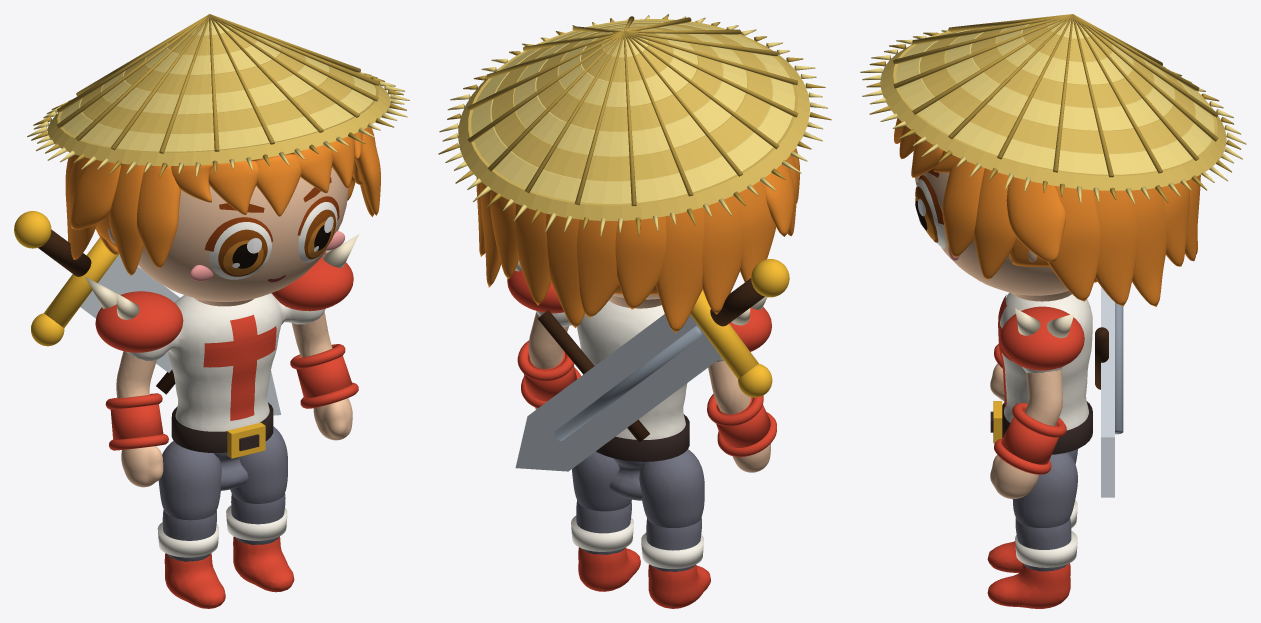
File: iop3.glb
The picture shows the model from 3 angles, left to right: view 1: azimuth 30°, elevation 25°; view 2: azimuth 150°, elevation 25°; view 3: azimuth 270°, elevation 25°; orthographic projection. The views are drawn at different scales.
Parts seen in each view (by area): view 1: meches, crane, tunique, cone, cone_bord, cone.001, cone.002, jambe, epauliere, cone.003, epauliere.001, jambe.001 (+46 smaller); view 2: meches, lame, cone, cone.001, cone_bord, cone.002, cone.003, tunique, jambe, cone.004, jambe.001, gorge (+37 smaller); view 3: meches, cone, cone.001, cone_bord, cone.002, tunique, cone.003, epauliere.001, jambe.001, crane, cone.004, botte.001 (+27 smaller).
Boxes of the visible parts, x1=… form: meches: x1=65, y1=127, x2=380, y2=275; crane: x1=138, y1=167, x2=348, y2=301; tunique: x1=126, y1=293, x2=325, y2=431; cone: x1=60, y1=70, x2=375, y2=151; cone_bord: x1=47, y1=72, x2=390, y2=165; cone.001: x1=80, y1=66, x2=353, y2=133; cone.002: x1=102, y1=55, x2=329, y2=114; jambe: x1=158, y1=441, x2=221, y2=520; epauliere: x1=95, y1=291, x2=183, y2=352; cone.003: x1=123, y1=45, x2=305, y2=94; epauliere.001: x1=271, y1=252, x2=353, y2=311; jambe.001: x1=230, y1=426, x2=287, y2=503; meches: x1=476, y1=148, x2=799, y2=333; lame: x1=515, y1=314, x2=721, y2=471; cone: x1=471, y1=21, x2=794, y2=203; cone.001: x1=491, y1=22, x2=772, y2=181; cone_bord: x1=458, y1=19, x2=809, y2=220; cone.002: x1=514, y1=24, x2=747, y2=156; cone.003: x1=536, y1=26, x2=722, y2=131; tunique: x1=536, y1=300, x2=723, y2=439; jambe: x1=639, y1=449, x2=704, y2=527; cone.004: x1=558, y1=28, x2=697, y2=106; jambe.001: x1=572, y1=451, x2=631, y2=511; gorge: x1=554, y1=325, x2=703, y2=440; meches: x1=894, y1=118, x2=1200, y2=306; cone: x1=896, y1=29, x2=1214, y2=174; cone.001: x1=919, y1=26, x2=1195, y2=153; cone_bord: x1=880, y1=31, x2=1226, y2=190; cone.002: x1=945, y1=25, x2=1174, y2=130; tunique: x1=1000, y1=292, x2=1092, y2=430; cone.003: x1=971, y1=28, x2=1154, y2=107; epauliere.001: x1=1000, y1=306, x2=1084, y2=370; jambe.001: x1=1012, y1=452, x2=1077, y2=527; crane: x1=917, y1=172, x2=1068, y2=295; cone.004: x1=996, y1=24, x2=1133, y2=84; botte.001: x1=987, y1=563, x2=1070, y2=608.
Size of the model in its own units: 2 by 3.15 by 1.92.
